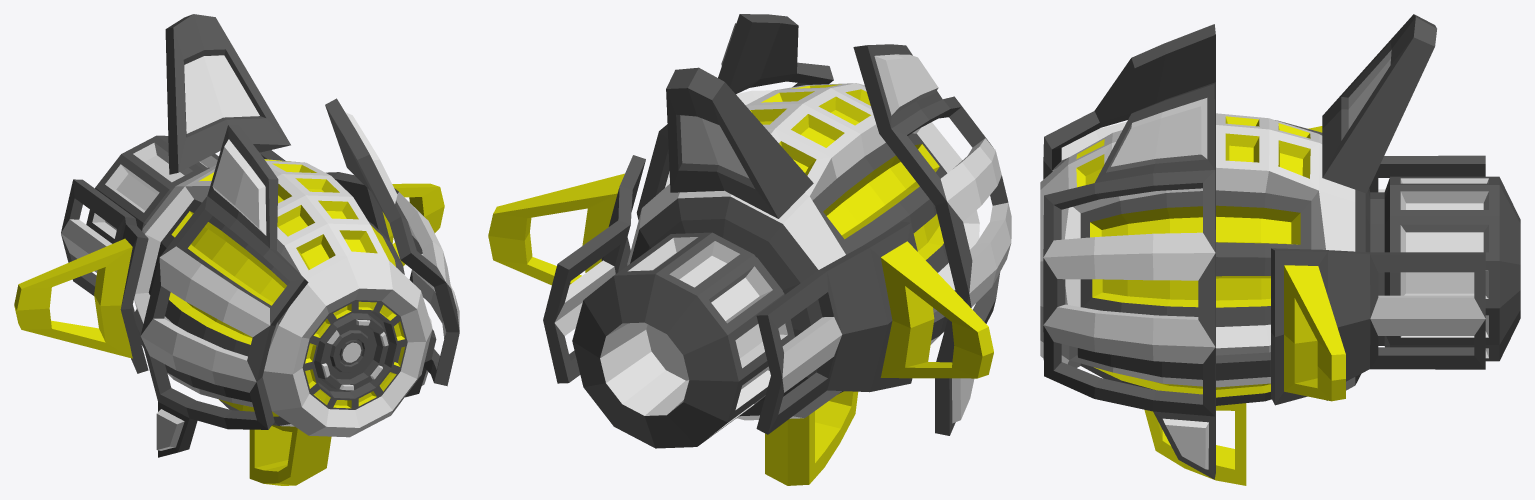
Rendered from tower8_3.fbx.
The picture shows the model from 3 angles, left to right: view 1: azimuth 30°, elevation 25°; view 2: azimuth 150°, elevation 25°; view 3: azimuth 270°, elevation 25°; orthographic projection. The views are drawn at different scales.
Parts seen in each view (by area): view 1: polySurface62; view 2: polySurface62; view 3: polySurface62.
Boxes of the visible parts, x1,y1,x2,y2 form: polySurface62: (14,14,459,485); polySurface62: (488,14,1011,485); polySurface62: (1040,14,1520,485).
Size of the model in its own units: 0.8213 by 0.7542 by 0.7056.
